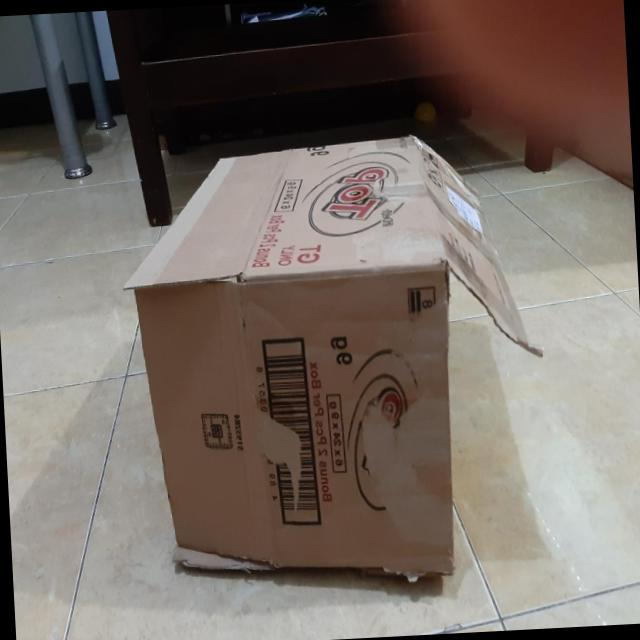Kardus: (115, 126, 556, 595)
